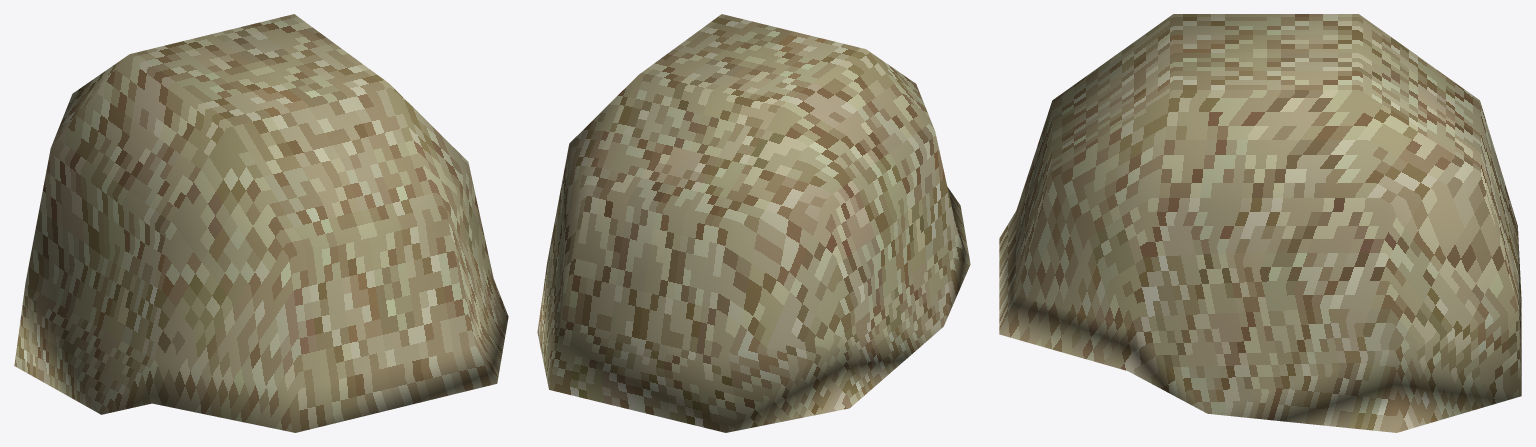
Rendered from IR_Helmet_Webbing.glb.
3 renders of one model, left to right at view 1: azimuth 30°, elevation 25°; view 2: azimuth 150°, elevation 25°; view 3: azimuth 270°, elevation 25°, orthographic. The views are drawn at different scales.
Visible parts, largest first — view 1: IR_HELMET_WEBBING; view 2: IR_HELMET_WEBBING; view 3: IR_HELMET_WEBBING.
Boxes of the visible parts, x1,y1,x2,y2 form: IR_HELMET_WEBBING: (14, 14, 508, 432); IR_HELMET_WEBBING: (537, 14, 970, 432); IR_HELMET_WEBBING: (999, 14, 1521, 432).
Bounding box in the file's own units: 0.224 × 0.172 × 0.276.
Materials: 1 (1 with a texture image).
